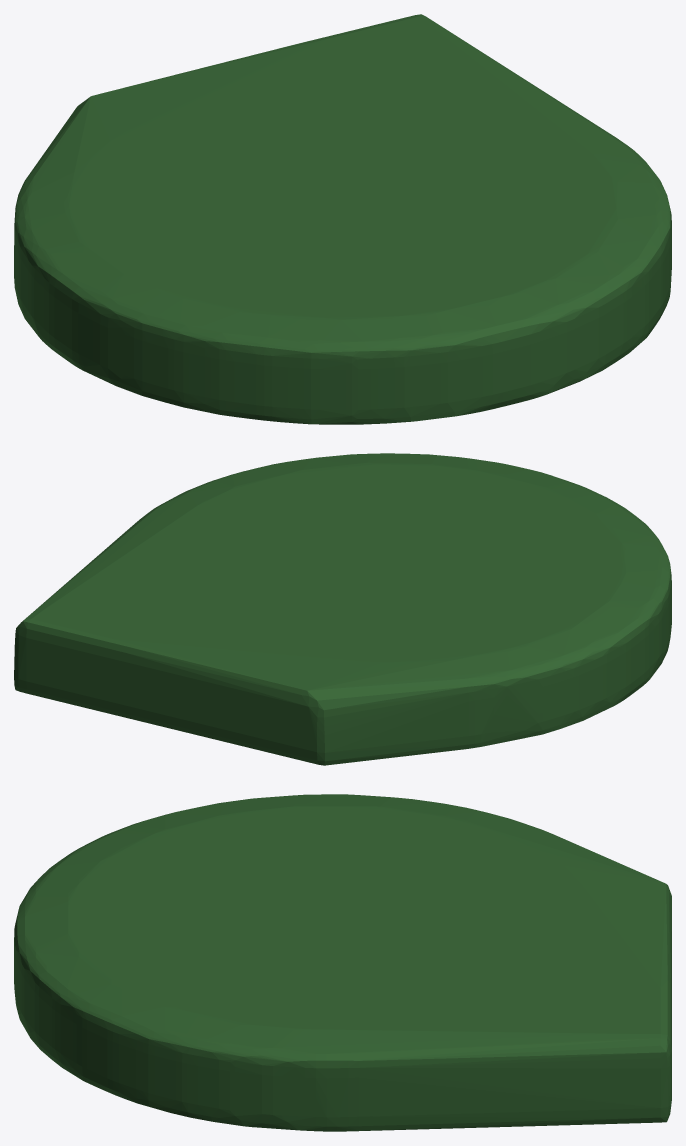
Rendered from right_hip_pitch_link_part_19.obj.
The picture shows the model from 3 angles, top to bottom: view 1: azimuth 30°, elevation 25°; view 2: azimuth 150°, elevation 25°; view 3: azimuth 270°, elevation 25°; orthographic projection. The views are drawn at different scales.
Bounding box in the file's own units: 0.1241 × 0.0179 × 0.129.
